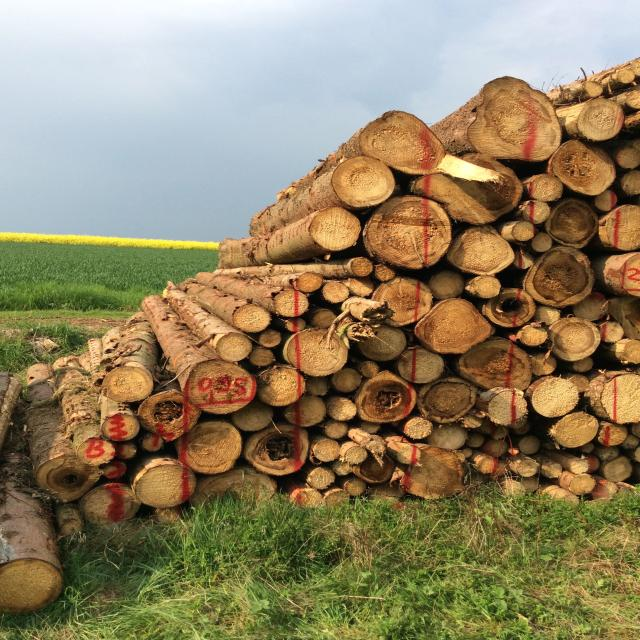wood-log: (467, 76, 562, 161), (365, 195, 452, 269), (358, 111, 446, 175), (524, 245, 594, 308), (415, 298, 493, 353), (183, 358, 258, 415), (457, 338, 533, 391), (551, 139, 616, 196), (175, 421, 243, 475), (243, 423, 310, 476), (446, 224, 515, 275), (400, 446, 464, 500), (331, 156, 396, 208), (354, 370, 417, 423), (137, 392, 201, 442), (36, 455, 101, 503), (287, 328, 348, 377), (543, 196, 599, 248), (417, 377, 478, 424), (135, 464, 197, 509), (80, 483, 141, 525), (309, 205, 361, 251), (547, 318, 601, 361), (255, 367, 307, 407), (485, 288, 537, 328), (576, 98, 624, 141), (102, 366, 154, 403), (531, 378, 579, 418), (396, 346, 444, 384), (551, 411, 599, 447), (488, 390, 528, 425), (283, 396, 327, 427), (231, 304, 272, 334), (428, 270, 465, 301), (77, 437, 116, 466), (102, 413, 140, 442), (216, 333, 252, 362), (272, 290, 309, 317), (529, 174, 563, 202), (331, 367, 362, 392), (603, 457, 632, 482), (470, 275, 501, 298), (522, 199, 550, 224), (404, 417, 433, 441), (306, 467, 336, 490), (328, 398, 358, 421), (313, 439, 341, 463), (598, 423, 627, 446), (568, 474, 596, 496), (520, 324, 548, 346), (322, 282, 350, 303), (297, 271, 323, 292), (248, 348, 275, 367), (598, 322, 623, 342), (324, 419, 348, 439), (511, 220, 535, 240), (396, 445, 421, 464), (518, 435, 541, 455), (140, 434, 164, 453), (516, 458, 540, 477), (344, 445, 367, 464), (483, 438, 507, 456), (513, 249, 534, 269), (351, 256, 373, 275), (344, 478, 367, 496), (259, 329, 281, 347), (476, 456, 498, 474), (115, 443, 138, 460), (360, 361, 379, 378), (569, 459, 590, 474), (584, 81, 603, 97), (544, 463, 563, 478), (371, 443, 386, 455)
